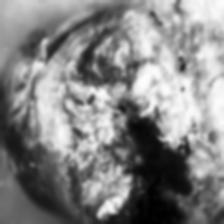Potentially Malignant Skin Tumors: (55, 122, 197, 224)
